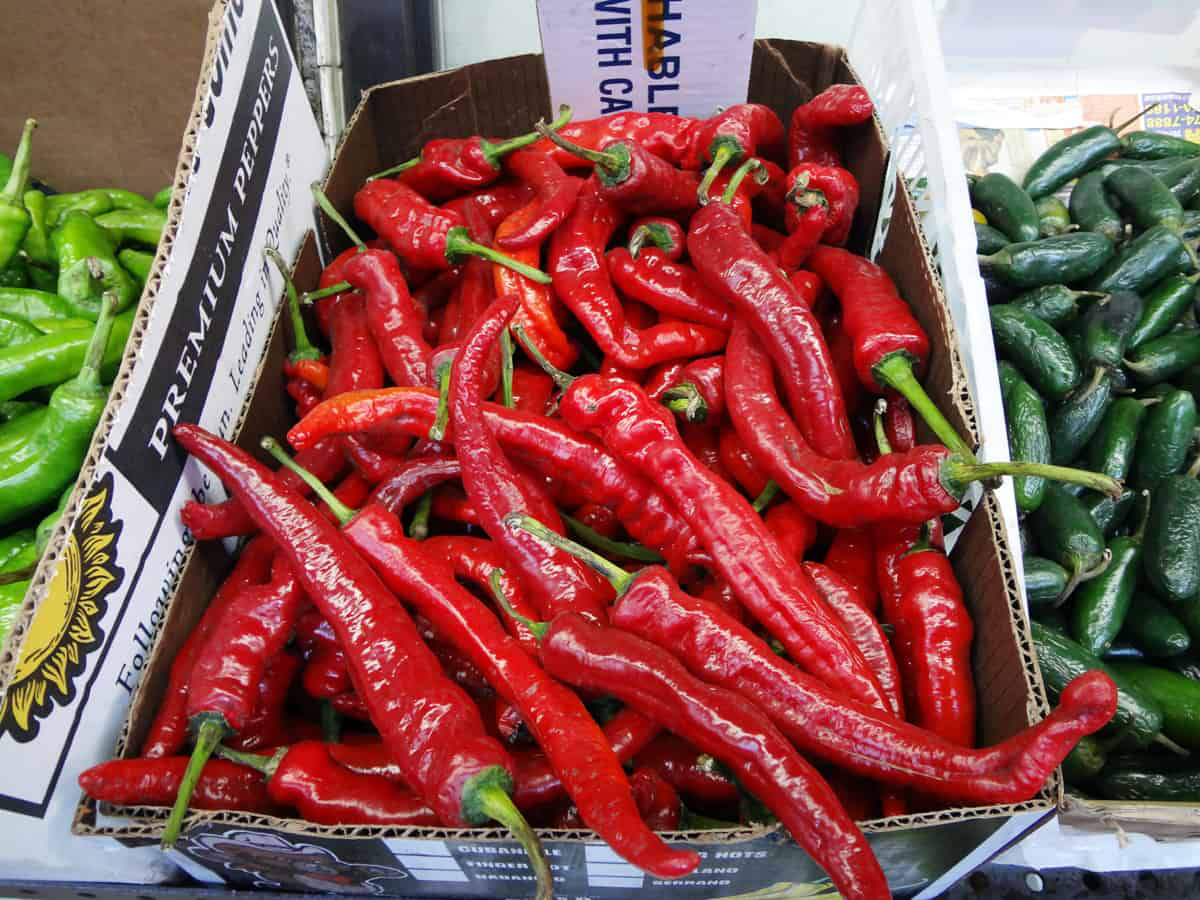Cabai: (306, 219, 856, 768)
